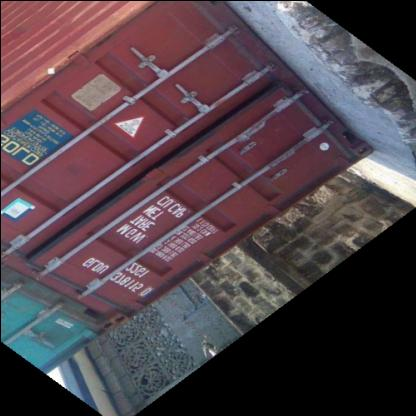Damage: (228, 32, 283, 84), (31, 45, 92, 91)
